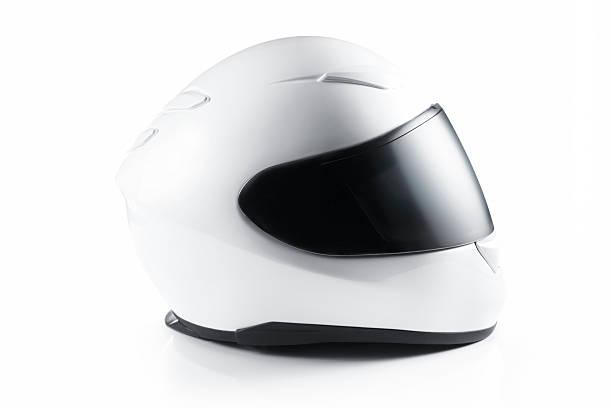helmet: (102, 19, 536, 395)
